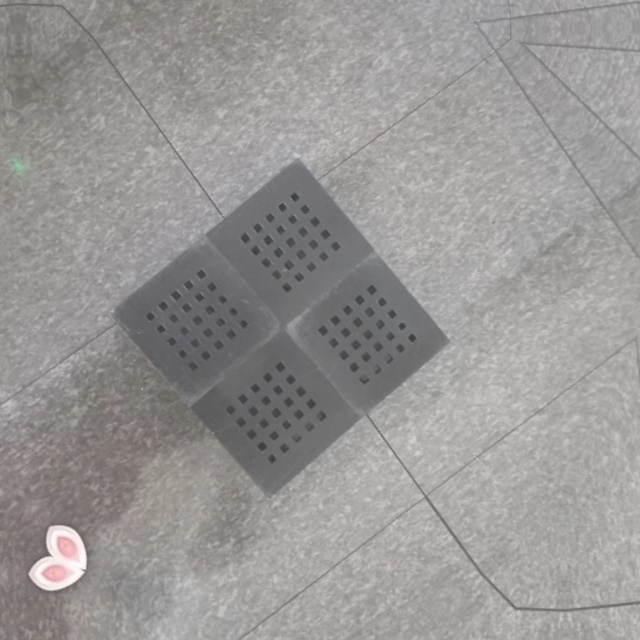pallet: (100, 144, 459, 508)
